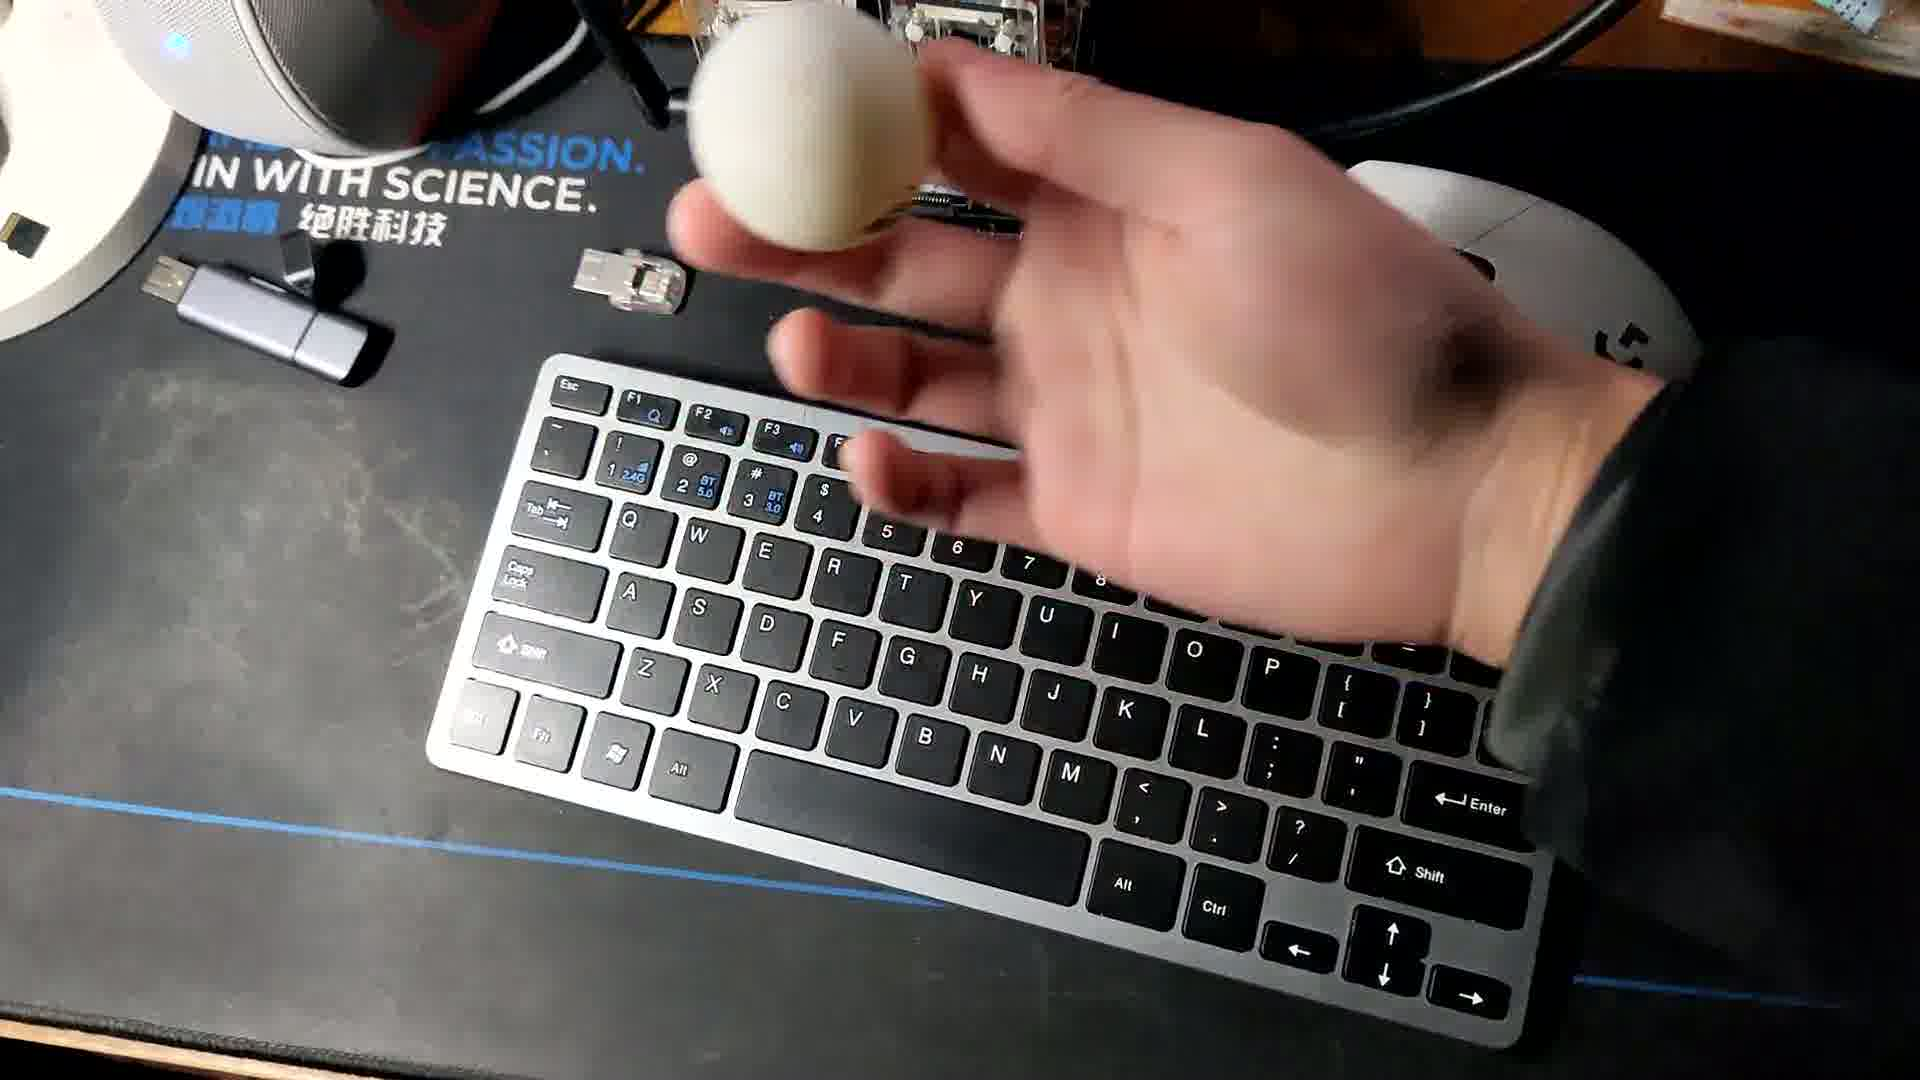Ball: (684, 11, 934, 251)
